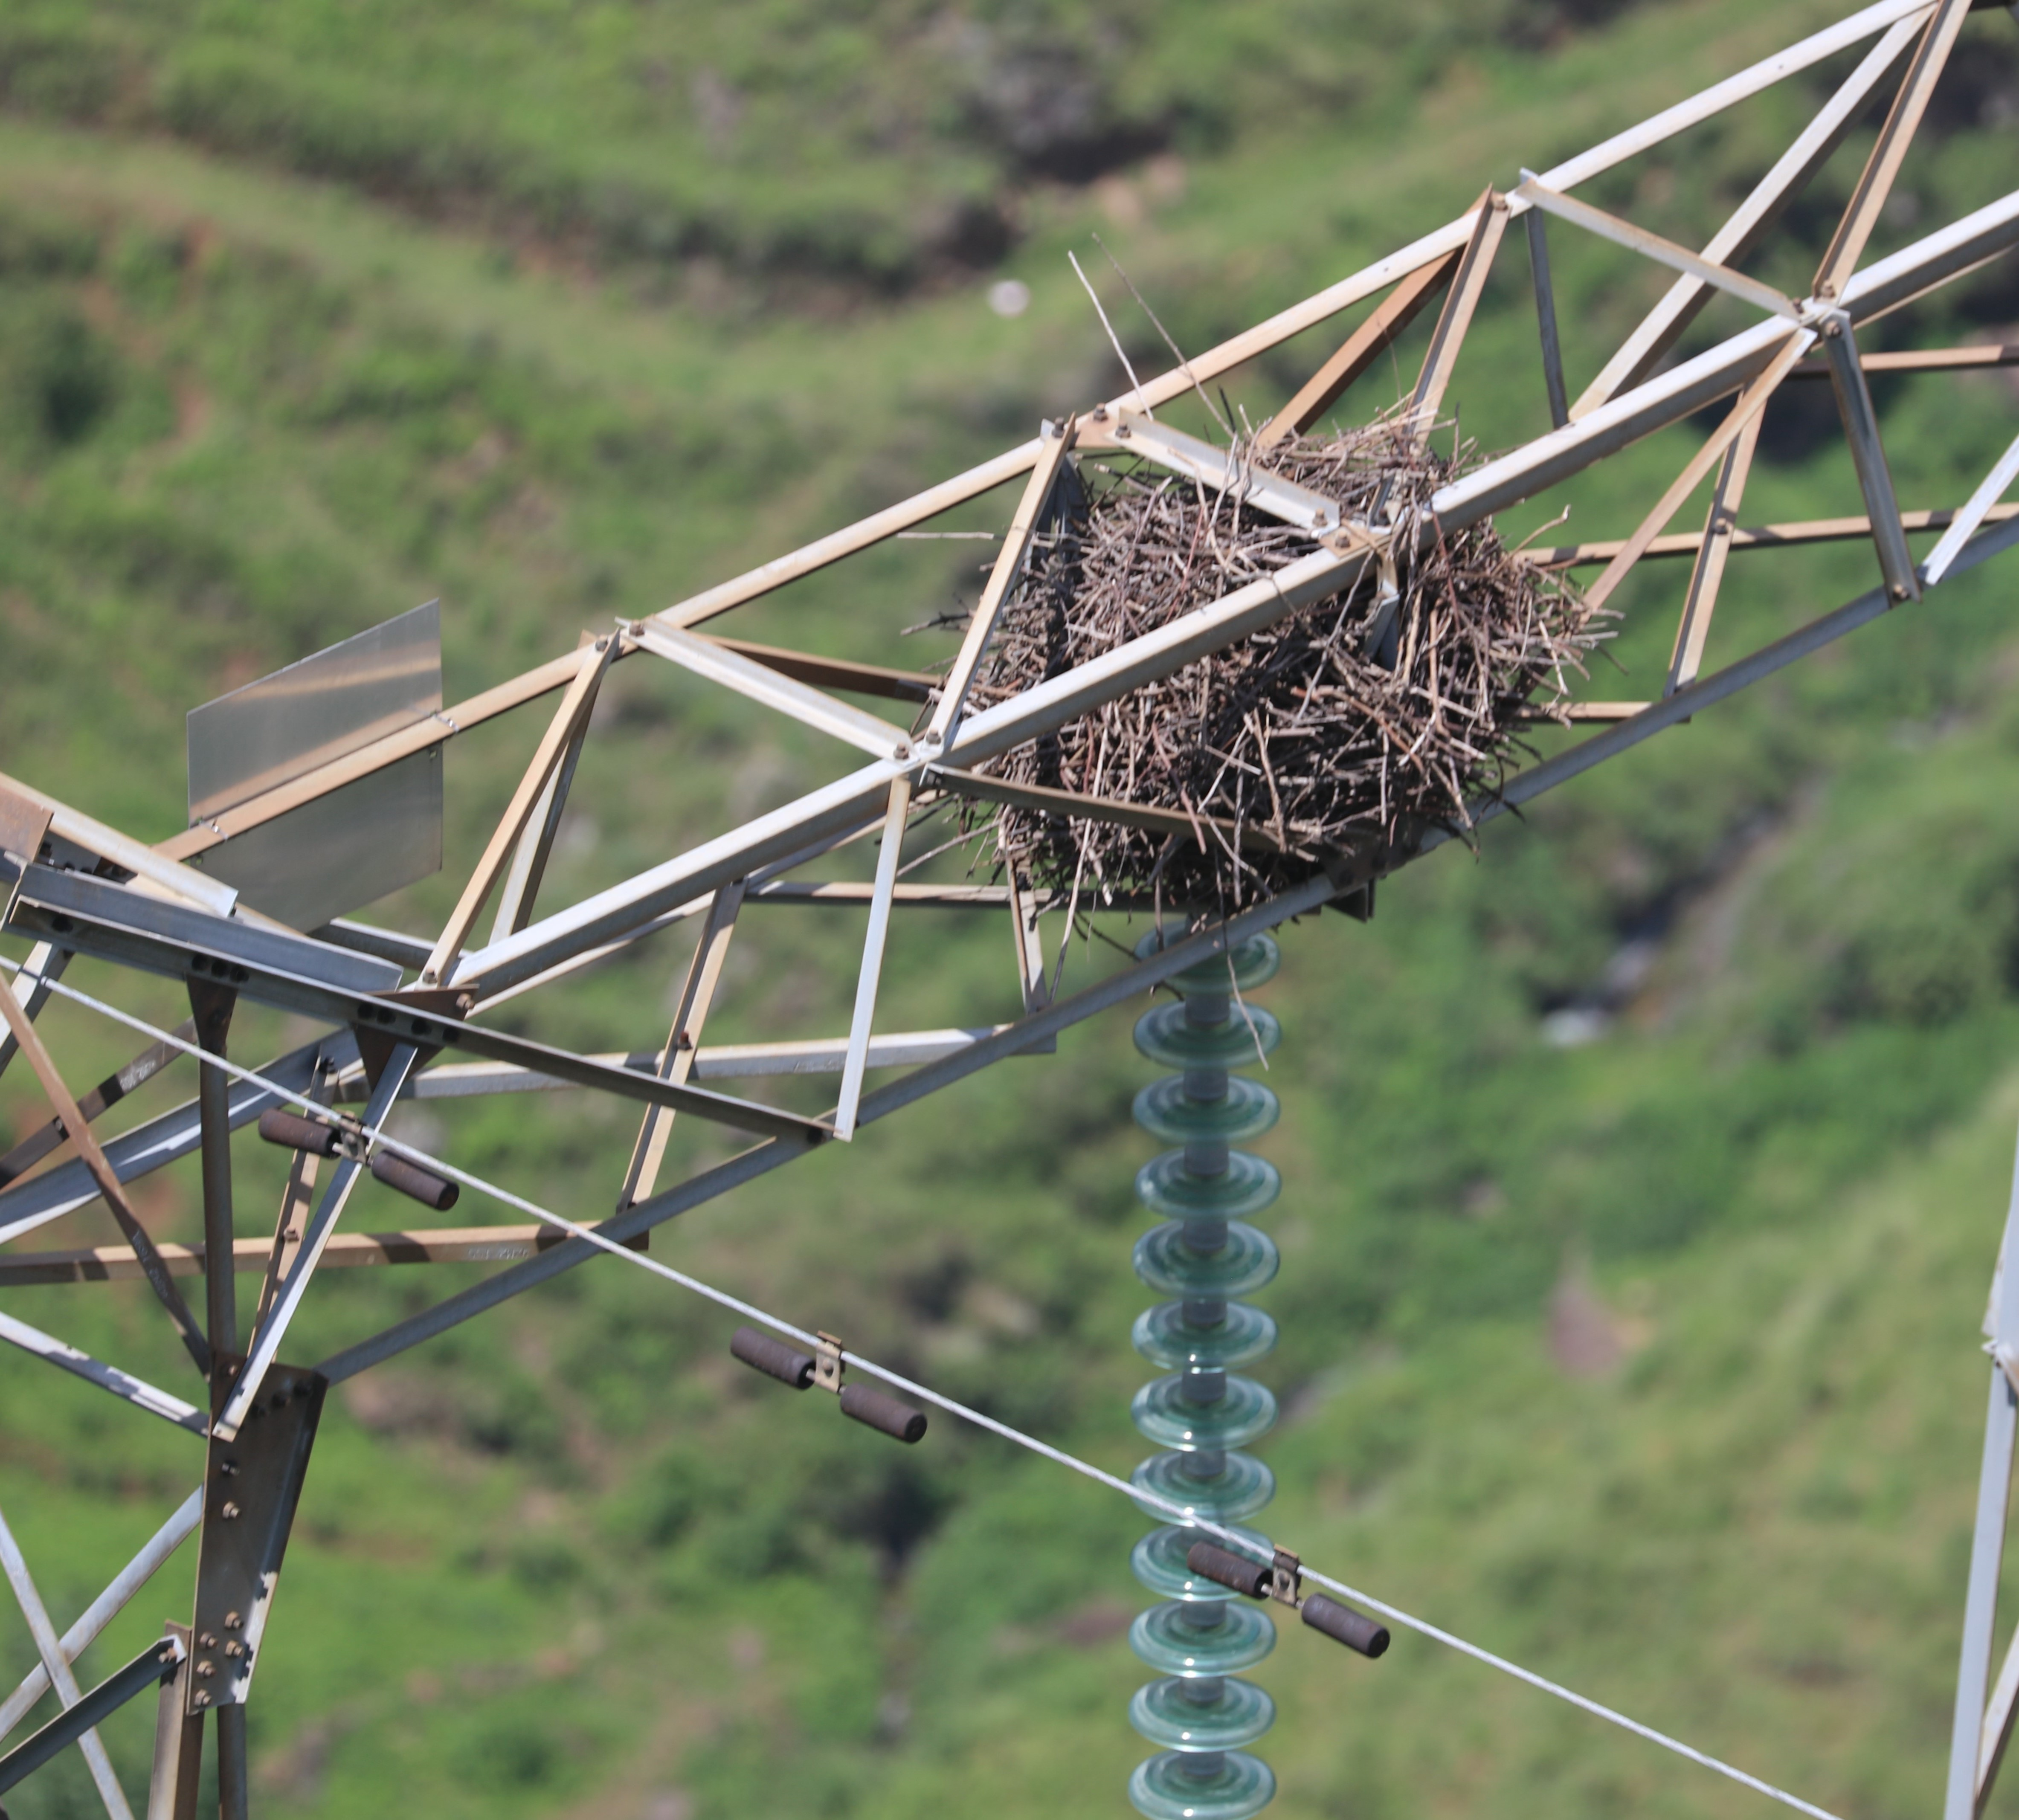niaowo: (949, 402, 1625, 908)
